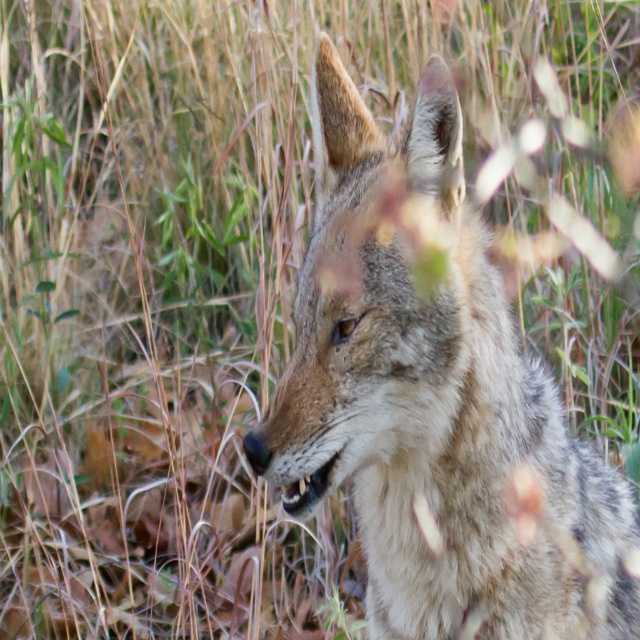Fox: (241, 27, 640, 639)
